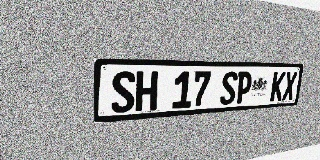1: (172, 71, 193, 109)
7: (191, 72, 211, 107)
H: (135, 71, 158, 112)
K: (270, 72, 286, 101)
P: (235, 72, 253, 104)
S: (111, 71, 136, 113), (219, 72, 238, 105)
X: (282, 72, 297, 101)
